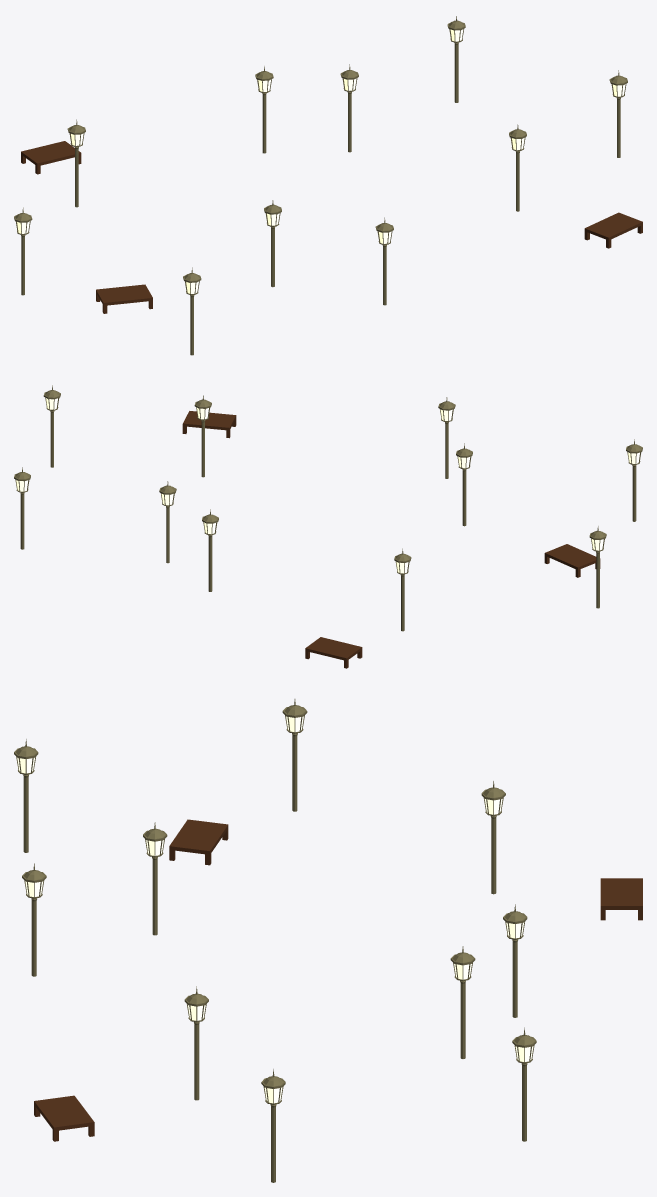
The model's file is rock_kicking_purgatory_ground_1_collision.glb.
3 views of the same model, one above another, from view 1: azimuth 30°, elevation 25°; view 2: azimuth 150°, elevation 25°; view 3: azimuth 270°, elevation 25° (orthographic). The views are drawn at different scales.
Visible parts, largest first — view 1: Lamp Post-colonly, Tables-colonly; view 2: Lamp Post-colonly, Tables-colonly; view 3: Lamp Post-colonly, Tables-colonly.
Boxes of the visible parts, x1,y1,x2,y2 form: Lamp Post-colonly: (14, 16, 627, 355); Tables-colonly: (21, 141, 642, 313); Lamp Post-colonly: (14, 385, 642, 631); Tables-colonly: (182, 411, 600, 668); Lamp Post-colonly: (14, 699, 536, 1182); Tables-colonly: (34, 819, 642, 1141).
Bounding box in the file's own units: 470 × 65.25 × 327.
